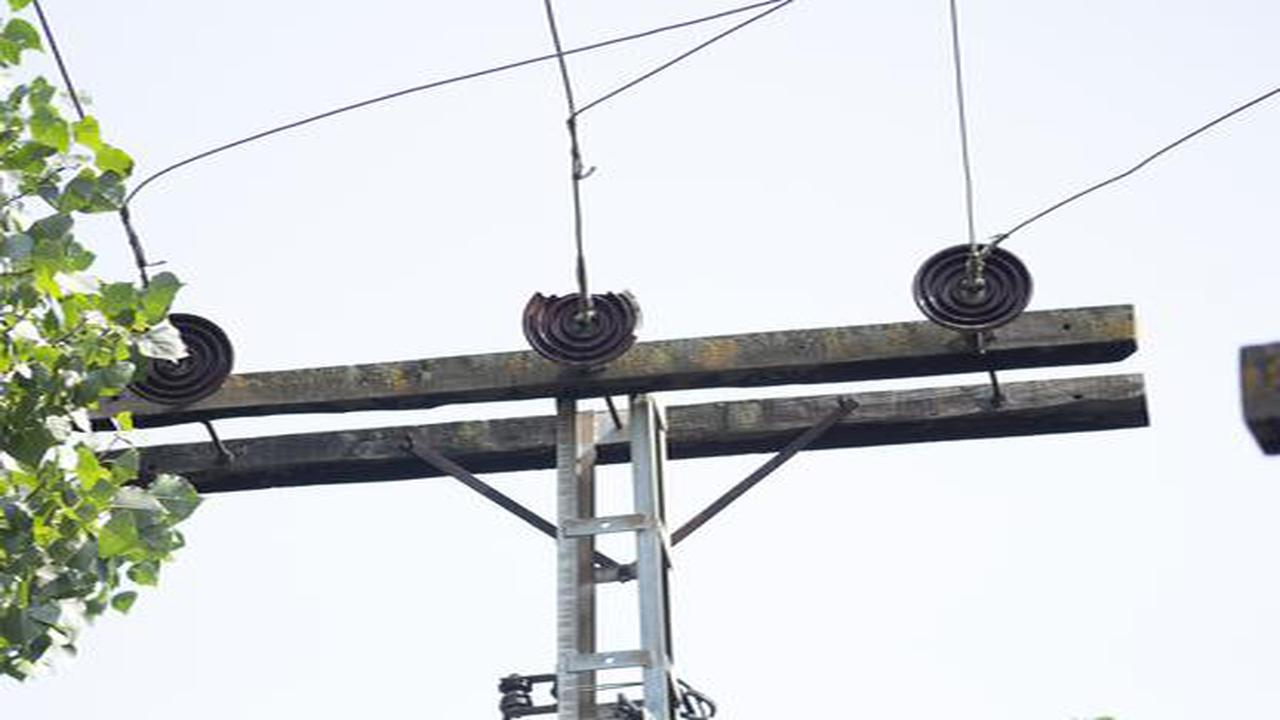defect_disc: (523, 284, 648, 366)
insulator_disc: (912, 242, 1038, 339), (139, 313, 236, 403)
